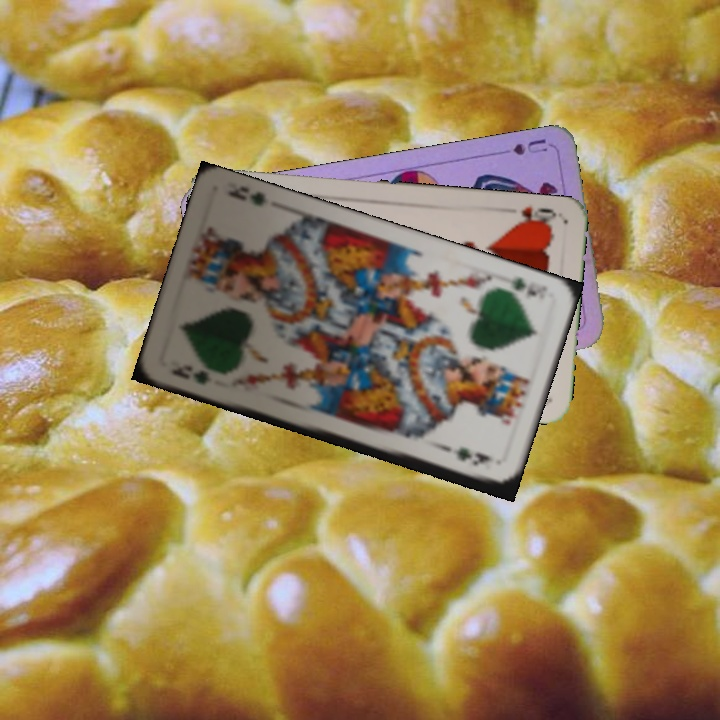GK: (167, 360, 215, 388), (506, 273, 550, 303)
HO: (510, 201, 559, 229)
SU: (491, 134, 550, 158)
